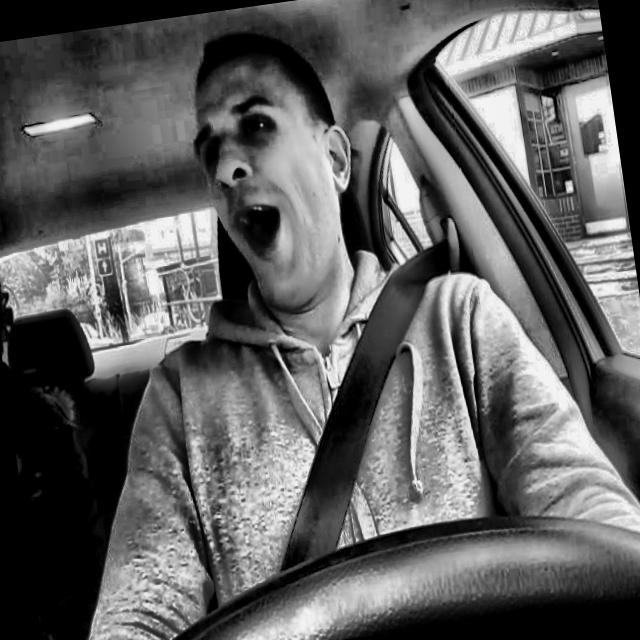open_mouth: (214, 195, 314, 277)
